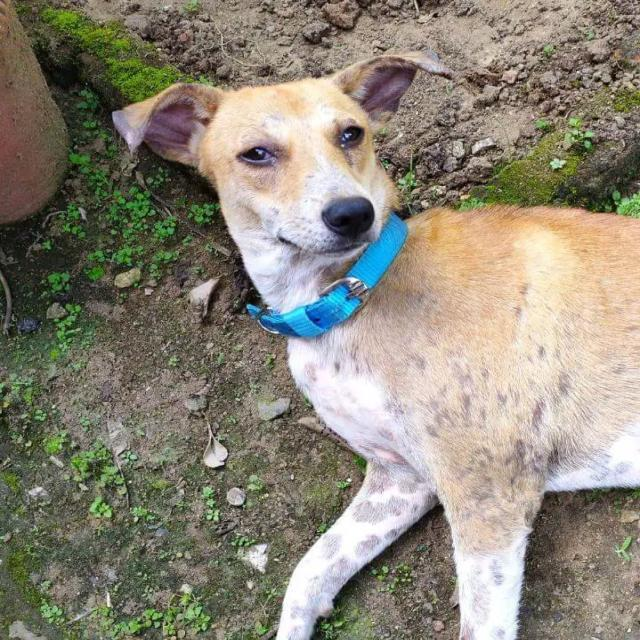mange: (436, 401, 531, 504), (408, 352, 507, 426), (503, 358, 586, 426), (495, 280, 558, 356)
